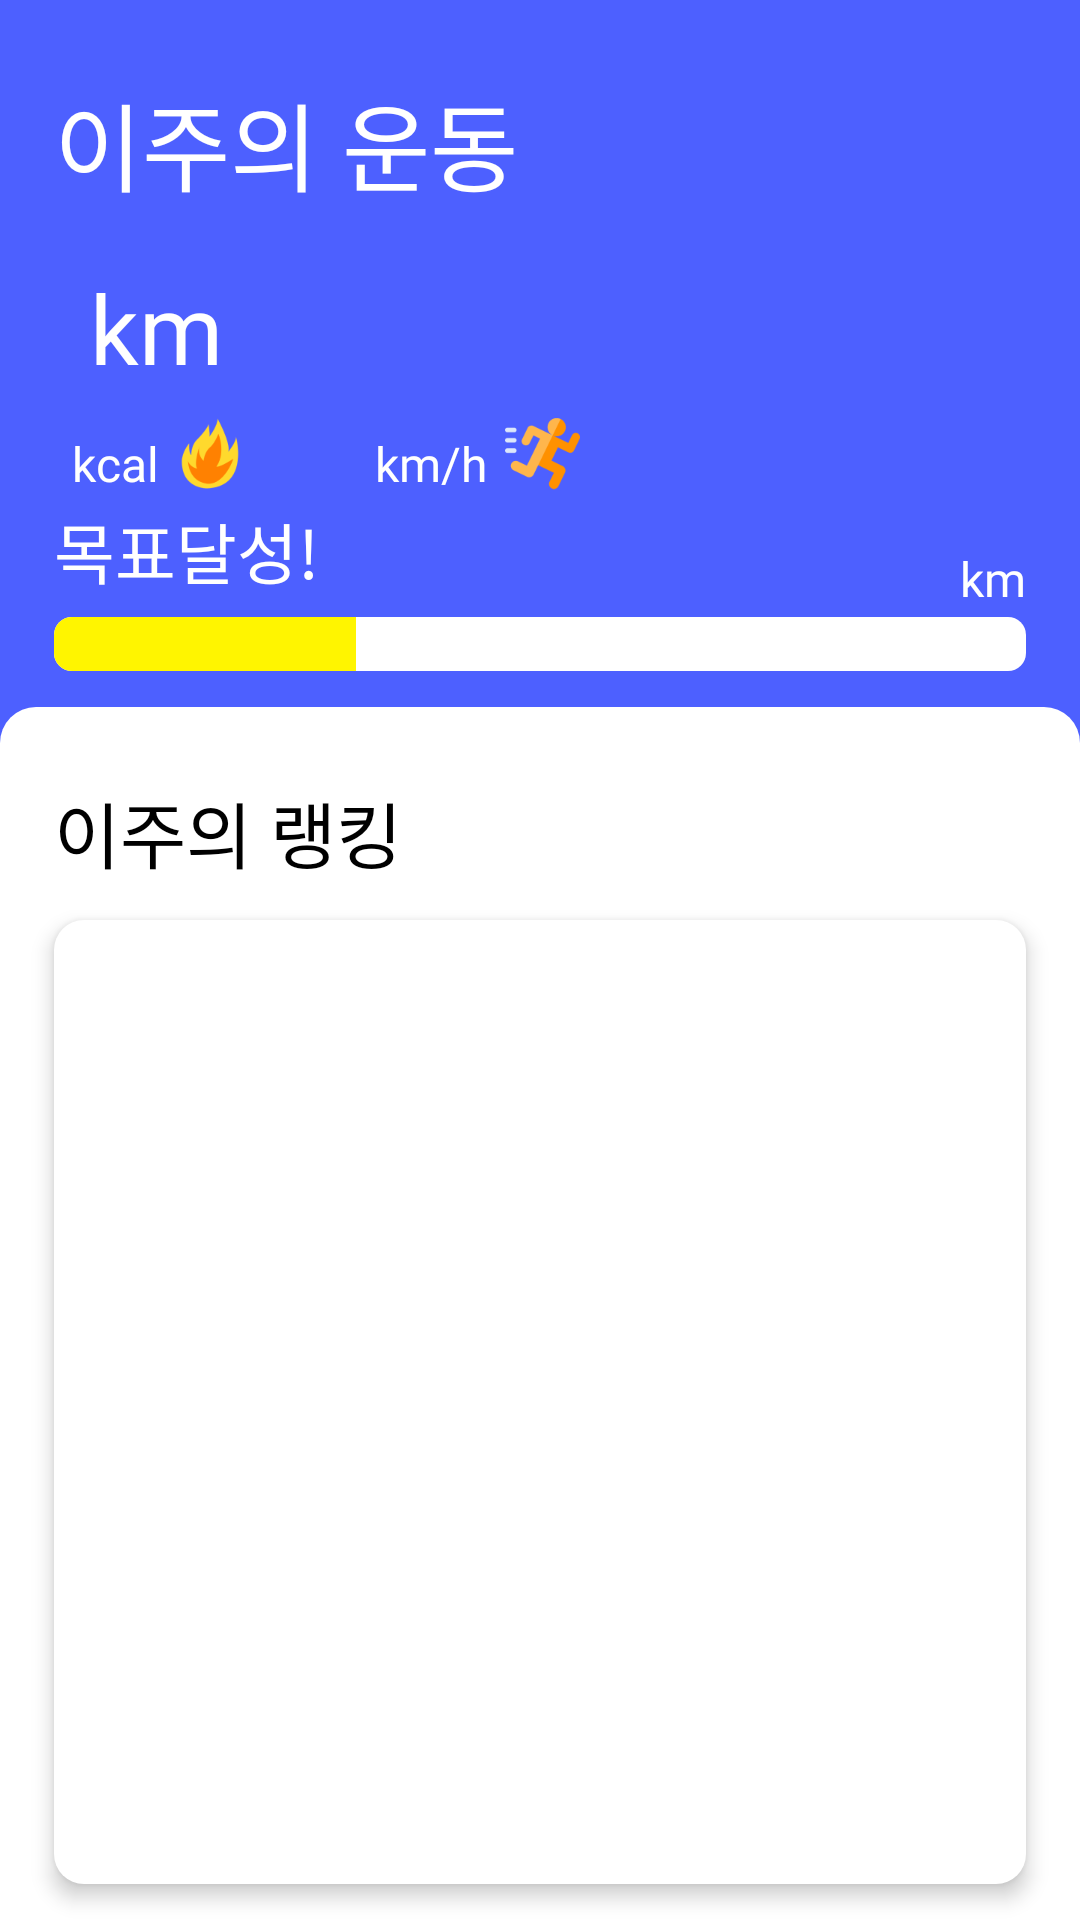

Named icons in this screenshot (1080 × 1920) and their centers, (x,y):
fire: (210,454)
running: (542,454)
